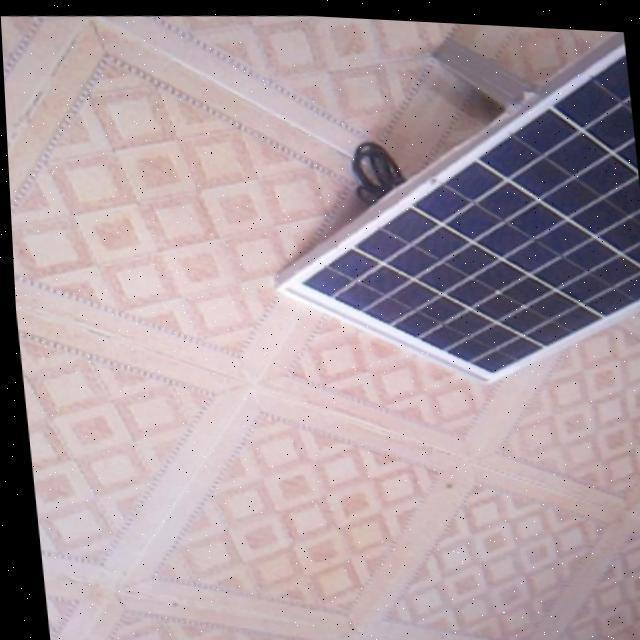Normal Solar Panel: (249, 10, 640, 393)
